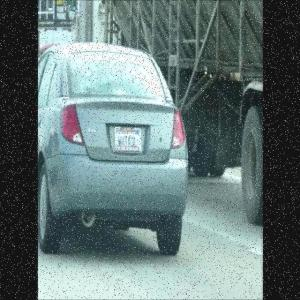Plate: (114, 126, 144, 152)
